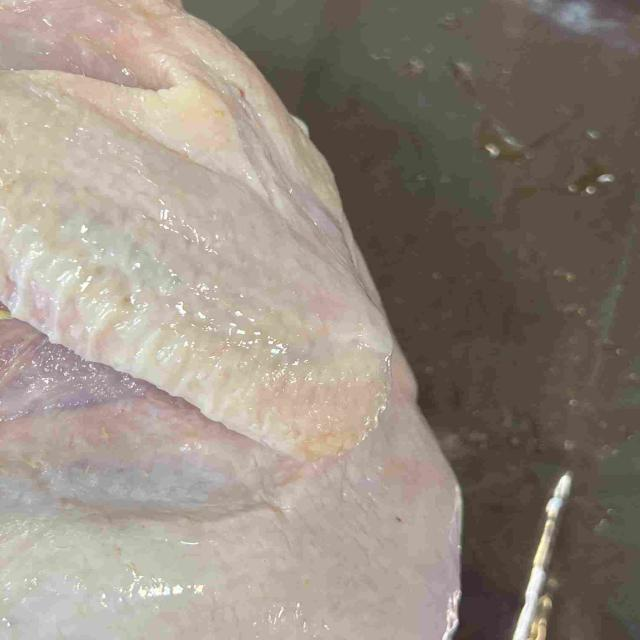wing: (0, 71, 393, 456)
